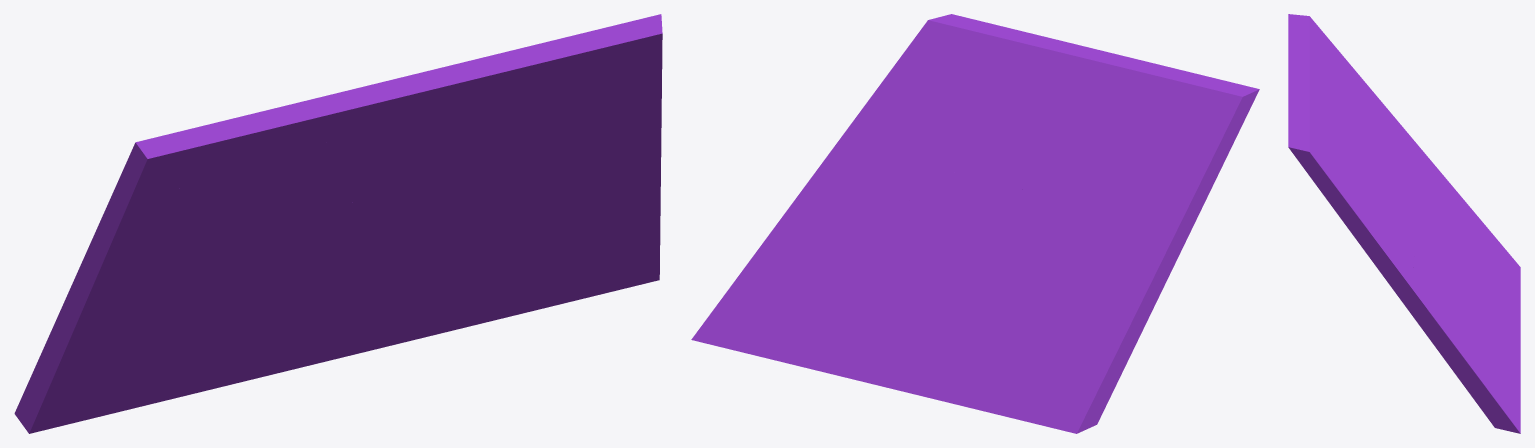
Rendered from Window_109_chunks.fbx.
3 views of the same model, side by side, from view 1: azimuth 30°, elevation 25°; view 2: azimuth 150°, elevation 25°; view 3: azimuth 270°, elevation 25° (orthographic). The views are drawn at different scales.
Parts seen in each view (by area): view 1: Window_109_36, Window_109_3, Window_109_1, Window_109_16, Window_109_25, Window_109_34, Window_109_18, Window_109_9, Window_109_28, Window_109_17, Window_109_24, Window_109_26 (+14 smaller); view 2: Window_109_3, Window_109_16, Window_109_18, Window_109_24, Window_109_5, Window_109_19, Window_109_36, Window_109_7, Window_109_8, Window_109_28, Window_109_34, Window_109_12 (+22 smaller); view 3: Window_109_19, Window_109_18, Window_109_3, Window_109_24, Window_109_25, Window_109_36, Window_109_28, Window_109_16, Window_109_5, Window_109_34, Window_109_7, Window_109_8 (+20 smaller).
Boxes of the visible parts, box(x1,y1,x2,y2) form: Window_109_36: box(123, 90, 389, 198); Window_109_3: box(290, 249, 471, 370); Window_109_1: box(106, 247, 368, 414); Window_109_16: box(87, 187, 274, 297); Window_109_25: box(508, 14, 662, 148); Window_109_34: box(293, 67, 473, 194); Window_109_18: box(470, 242, 659, 325); Window_109_9: box(67, 254, 201, 371); Window_109_28: box(436, 25, 627, 118); Window_109_17: box(496, 135, 661, 258); Window_109_24: box(495, 92, 661, 201); Window_109_26: box(395, 115, 508, 188); Window_109_3: box(807, 254, 964, 392); Window_109_16: box(1079, 144, 1232, 265); Window_109_18: box(691, 275, 841, 367); Window_109_24: box(842, 83, 952, 201); Window_109_5: box(906, 313, 1019, 419); Window_109_19: box(718, 147, 835, 303); Window_109_36: box(1115, 54, 1259, 136); Window_109_7: box(988, 269, 1057, 428); Window_109_8: box(943, 211, 1034, 313); Window_109_28: box(956, 19, 1063, 94); Window_109_34: box(1054, 41, 1123, 153); Window_109_12: box(1080, 230, 1178, 367); Window_109_19: box(1393, 264, 1496, 401); Window_109_18: box(1467, 332, 1520, 433); Window_109_3: box(1437, 245, 1520, 383); Window_109_24: box(1337, 207, 1415, 267); Window_109_25: box(1288, 138, 1360, 213); Window_109_36: box(1288, 14, 1332, 80); Window_109_28: box(1288, 95, 1342, 153); Window_109_16: box(1345, 58, 1421, 169); Window_109_5: box(1465, 259, 1520, 340); Window_109_34: box(1288, 71, 1361, 127); Window_109_7: box(1435, 213, 1520, 291); Window_109_8: box(1403, 189, 1469, 280).
Size of the model in its own units: 1453 by 829 by 756.
